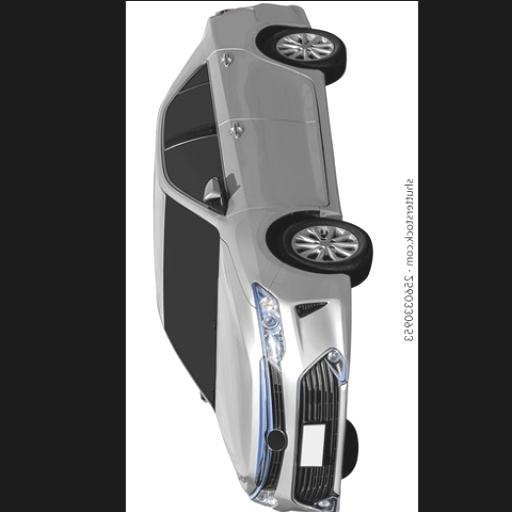sedan: (155, 3, 370, 512)
